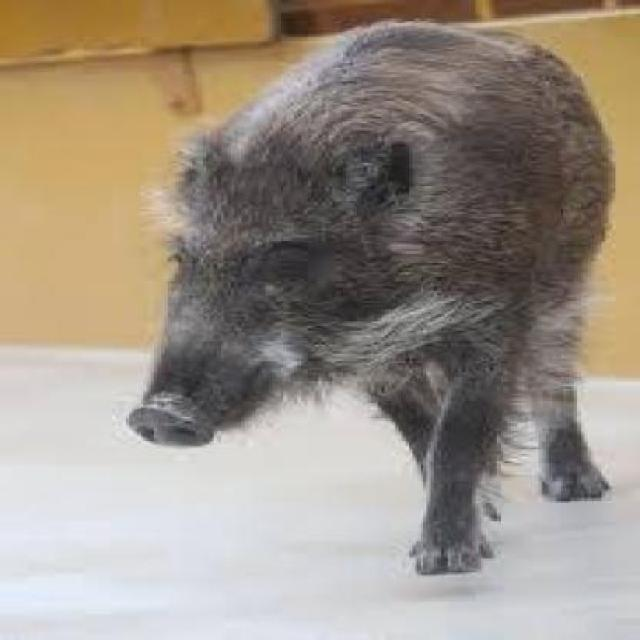wildboar: (104, 15, 628, 594)
